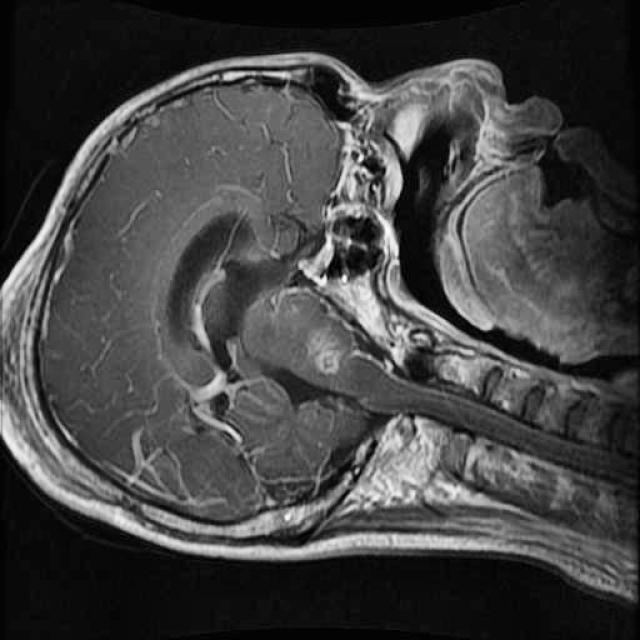Tumor: (301, 309, 360, 380)
